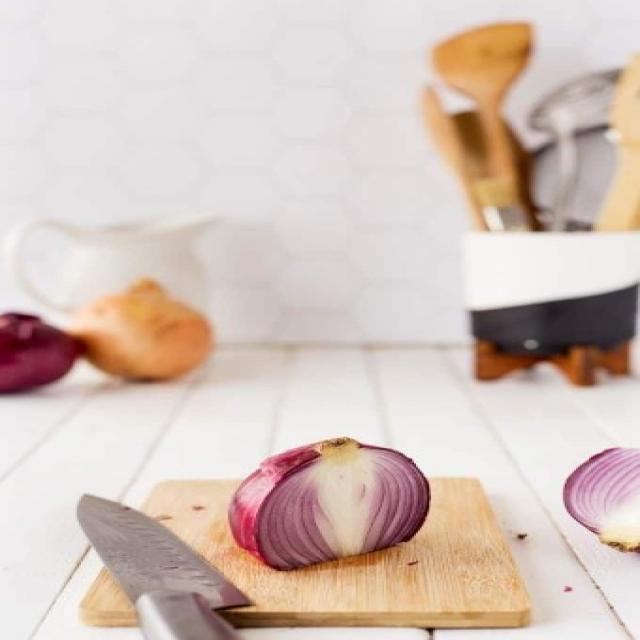onion: (209, 418, 467, 584), (542, 426, 640, 564)
